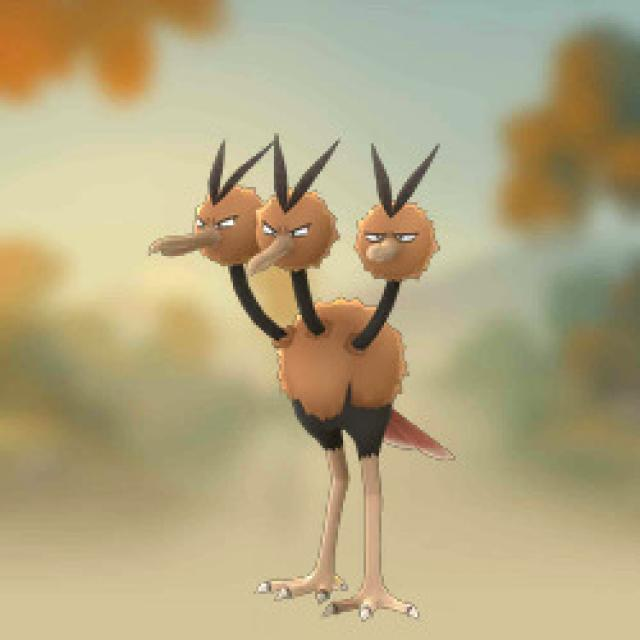Dodrio: (180, 150, 444, 618)
